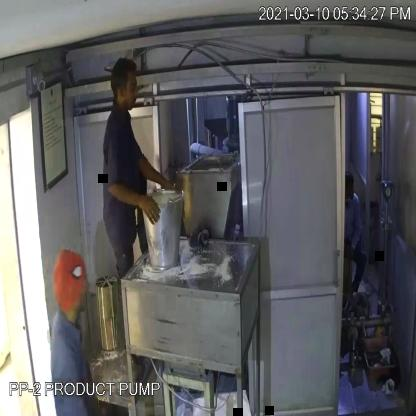no_glove: (131, 142, 189, 210), (107, 172, 162, 232)
